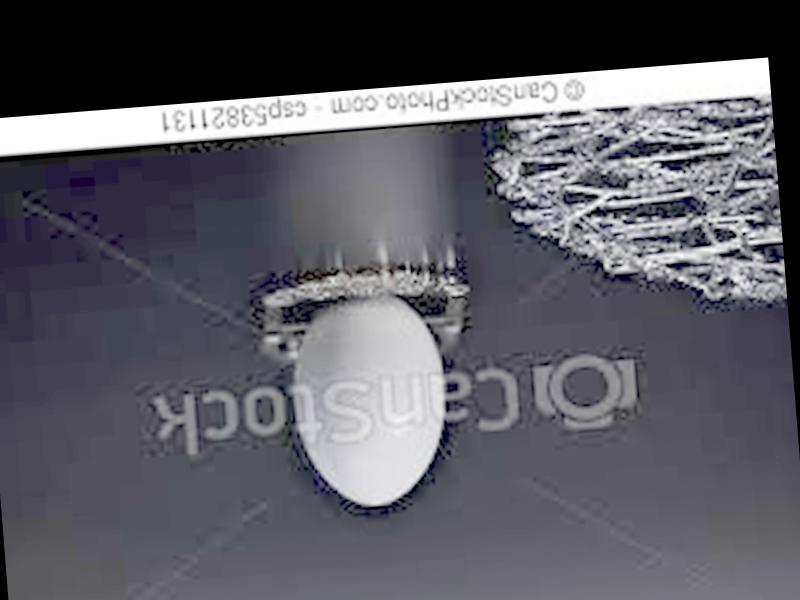Eggs: (286, 289, 454, 510)
